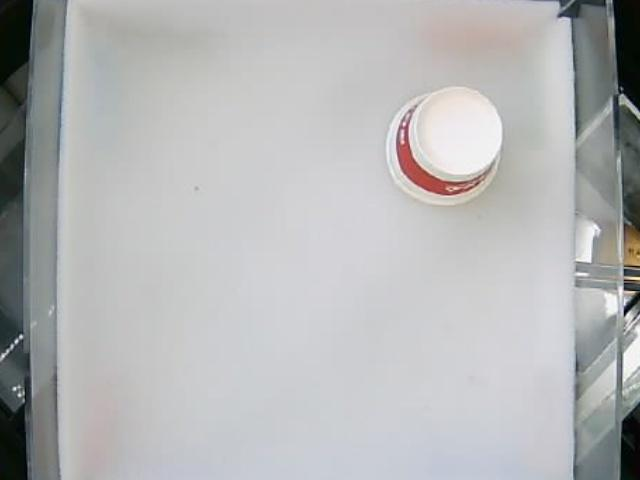Cup: (384, 84, 506, 211)
